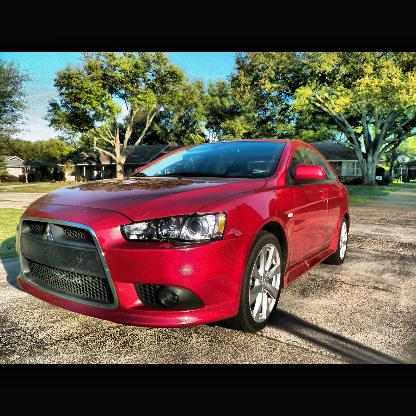Mitsubishi Lancer Sedan 2012: (13, 138, 354, 334)
